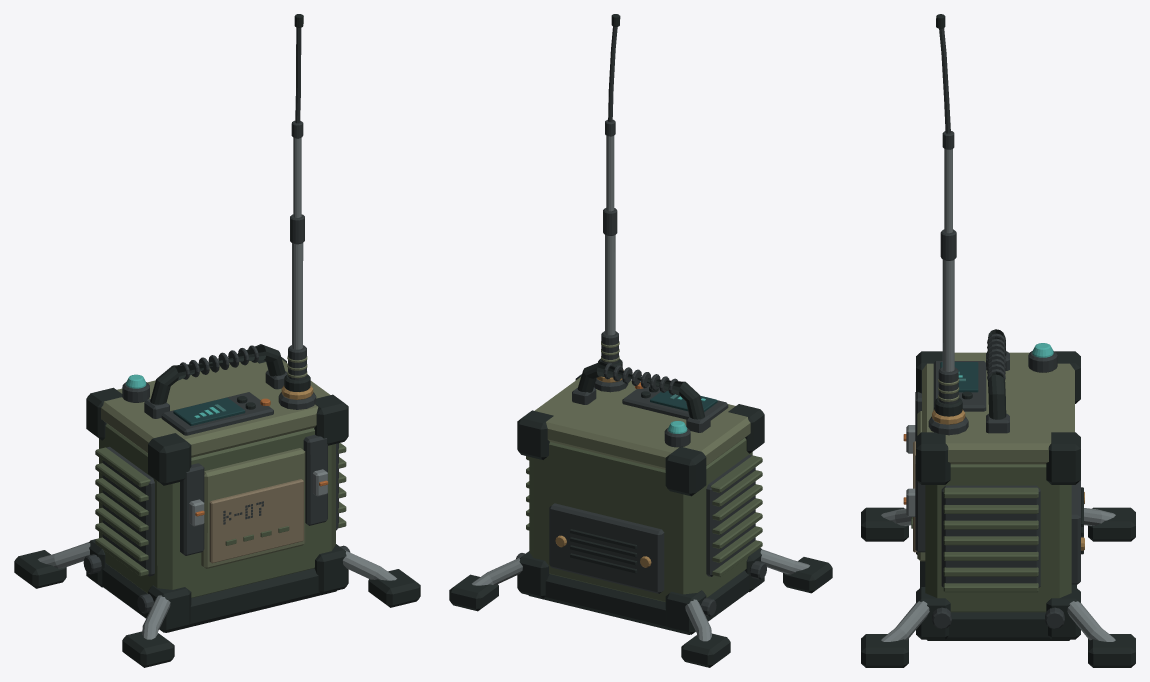
File: beacon.glb
3 views of the same model, side by side, from view 1: azimuth 30°, elevation 25°; view 2: azimuth 150°, elevation 25°; view 3: azimuth 270°, elevation 25° (orthographic). The views are drawn at different scales.
Visible parts, largest first — view 1: Radio, Feet, Mast; view 2: Radio, Feet, Mast; view 3: Radio, Feet, Mast.
Part boxes in pixels (x1=…): Radio: x1=86, y1=344, x2=348, y2=632; Feet: x1=14, y1=542, x2=420, y2=667; Mast: x1=287, y1=14, x2=307, y2=380; Radio: x1=517, y1=358, x2=764, y2=634; Feet: x1=449, y1=549, x2=832, y2=667; Mast: x1=601, y1=14, x2=620, y2=363; Radio: x1=903, y1=329, x2=1084, y2=640; Feet: x1=861, y1=507, x2=1135, y2=667; Mast: x1=936, y1=14, x2=959, y2=403.
Size of the model in its own units: 0.5132 by 1.01 by 0.4141.
